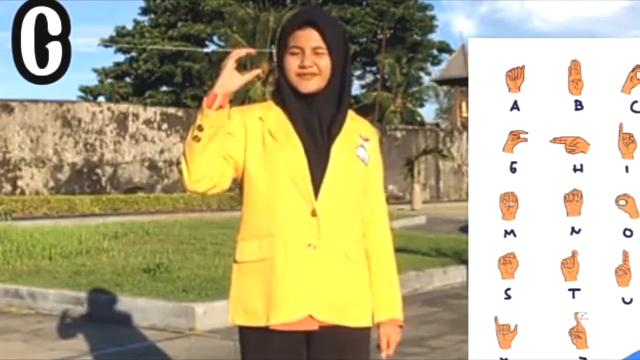C: (220, 47, 262, 91)
